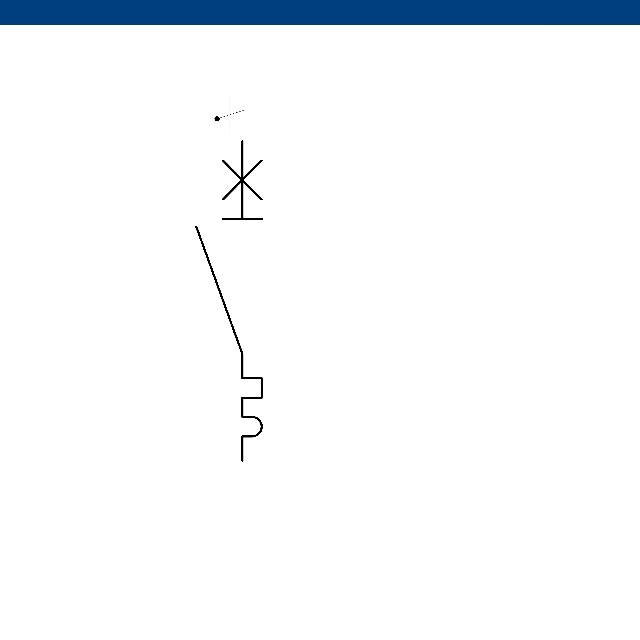interruptor_termomagnetico: (188, 133, 270, 469)
